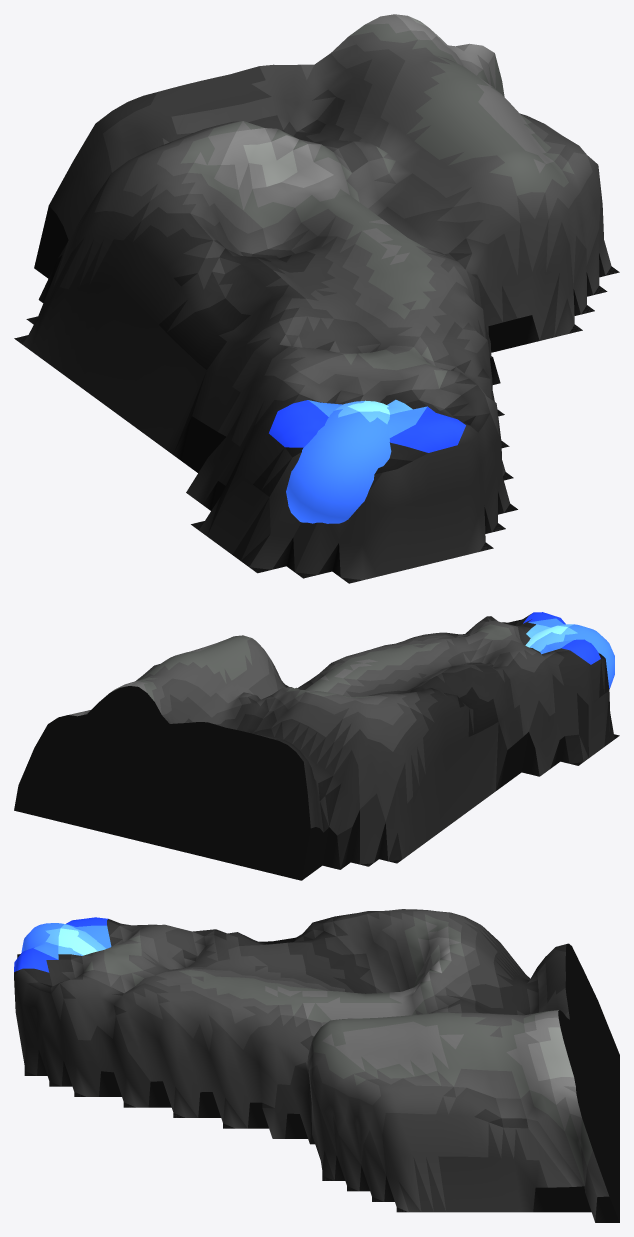
The model's file is eyespy_l_arm.glb.
3 renders of one model, top to bottom at view 1: azimuth 30°, elevation 25°; view 2: azimuth 150°, elevation 25°; view 3: azimuth 270°, elevation 25°, orthographic. The views are drawn at different scales.
Visible parts, largest first — view 1: eyespy_l_arm; view 2: eyespy_l_arm; view 3: eyespy_l_arm.
Part boxes in pixels (box(x1,y1,x2,y2)): eyespy_l_arm: box(14, 14, 619, 583); eyespy_l_arm: box(14, 612, 619, 880); eyespy_l_arm: box(14, 909, 619, 1222).
Bounding box in the file's own units: 21 × 6.85 × 24.43.
